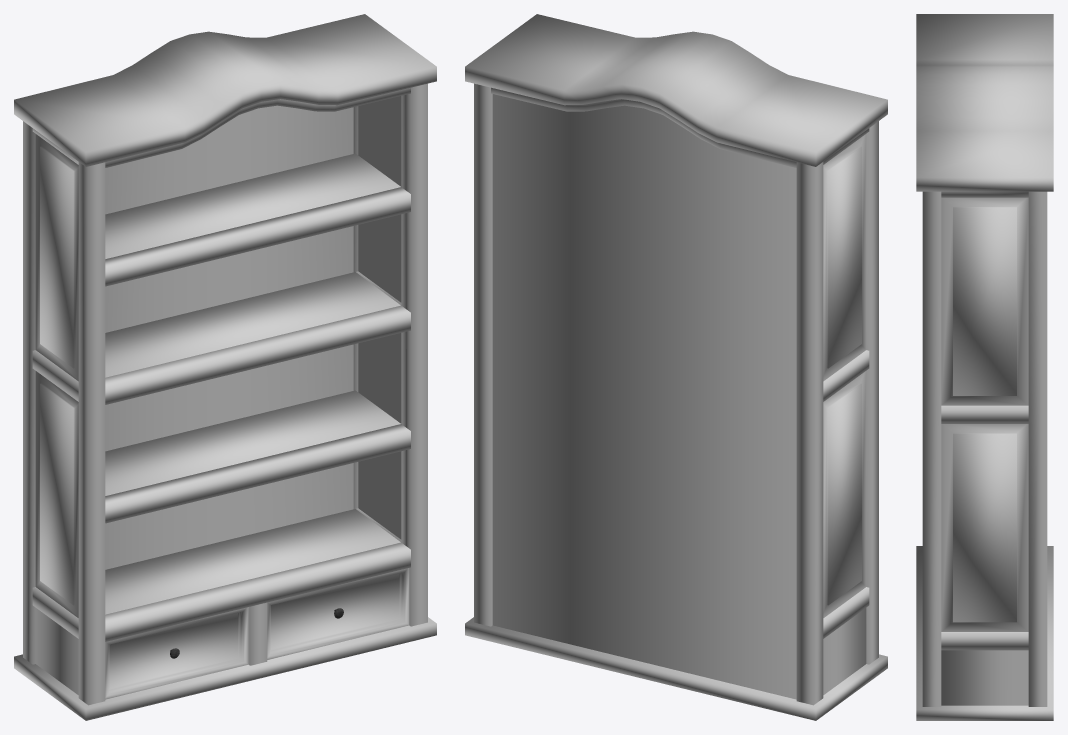
File: bookshelf.fbx
The picture shows the model from 3 angles, left to right: view 1: azimuth 30°, elevation 25°; view 2: azimuth 150°, elevation 25°; view 3: azimuth 270°, elevation 25°; orthographic projection. The views are drawn at different scales.
Visible parts, largest first — view 1: defaultMaterial; view 2: defaultMaterial; view 3: defaultMaterial.
Part boxes in pixels (x1=…): defaultMaterial: x1=14, y1=14, x2=436, y2=720; defaultMaterial: x1=465, y1=14, x2=887, y2=720; defaultMaterial: x1=916, y1=14, x2=1053, y2=720.
Size of the model in its own units: 124 by 200 by 44.09.
